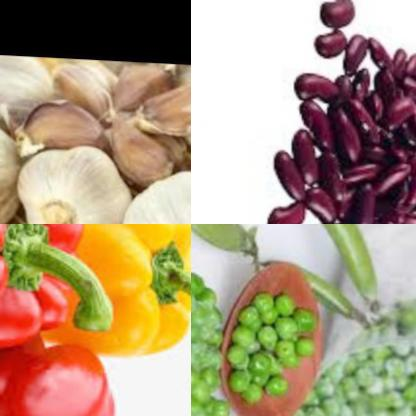bell pepper: (62, 224, 191, 373), (0, 224, 115, 370), (0, 335, 127, 416)
fasol: (246, 0, 416, 224)
garlic: (9, 131, 135, 224), (14, 89, 111, 158), (100, 105, 178, 179), (56, 56, 152, 111), (135, 59, 191, 140), (119, 164, 191, 224), (0, 52, 56, 124), (0, 104, 28, 224)
peas: (276, 292, 416, 416), (275, 224, 398, 313), (237, 287, 323, 406), (191, 263, 235, 416), (191, 224, 265, 260)
